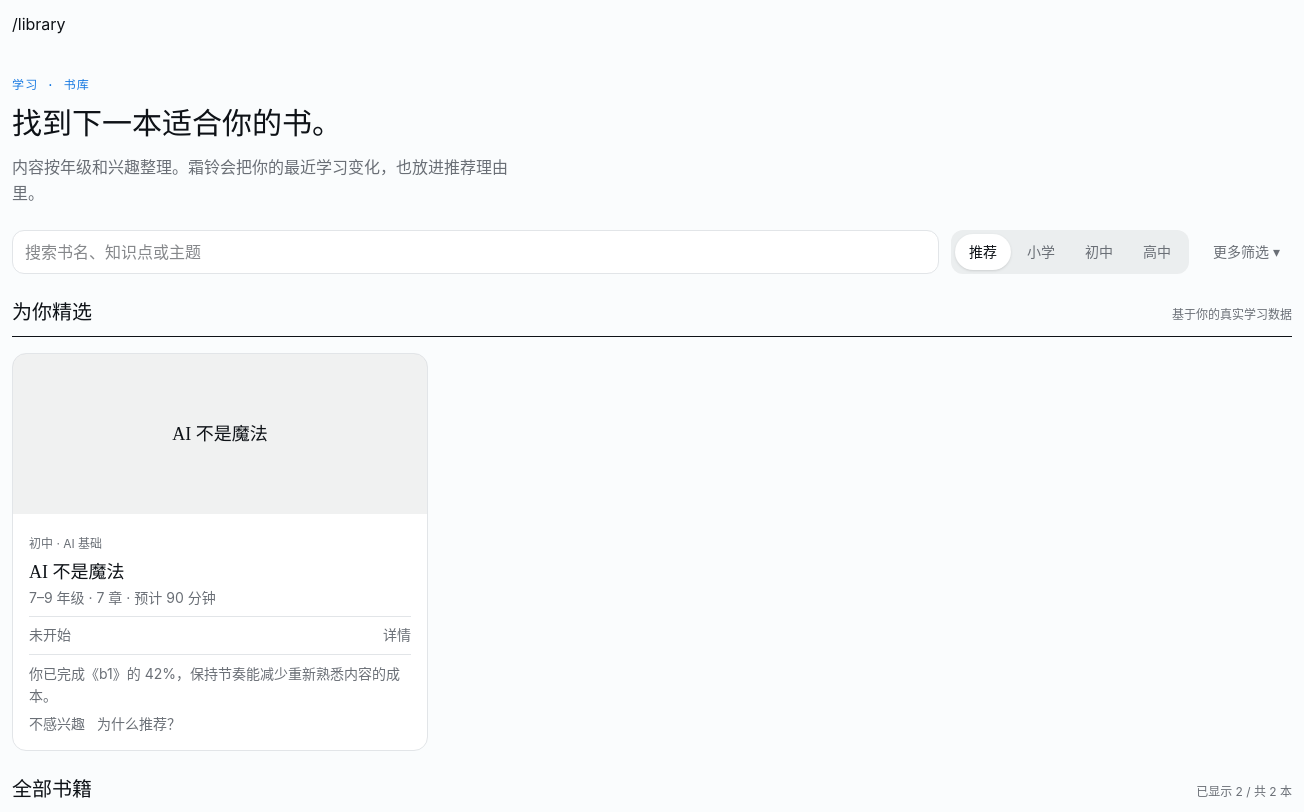
it: LibraryPage book detail entry points › 精选区来自真实推荐 API：展示理由、可忽略，详情入口可用
The width and height of the screenshot is (1304, 812).
Check: the heading "为你精选" is shown, box left=12, top=298, right=92, bottom=326
Check: the text "你已完成《b1》的 42%，保持节奏能减少重新熟悉内容的成本。" is shown, box left=29, top=654, right=411, bottom=708
Step 1. Click the button with test id "dismiss-rec-1" → point(57, 724), box left=29, top=714, right=85, bottom=734
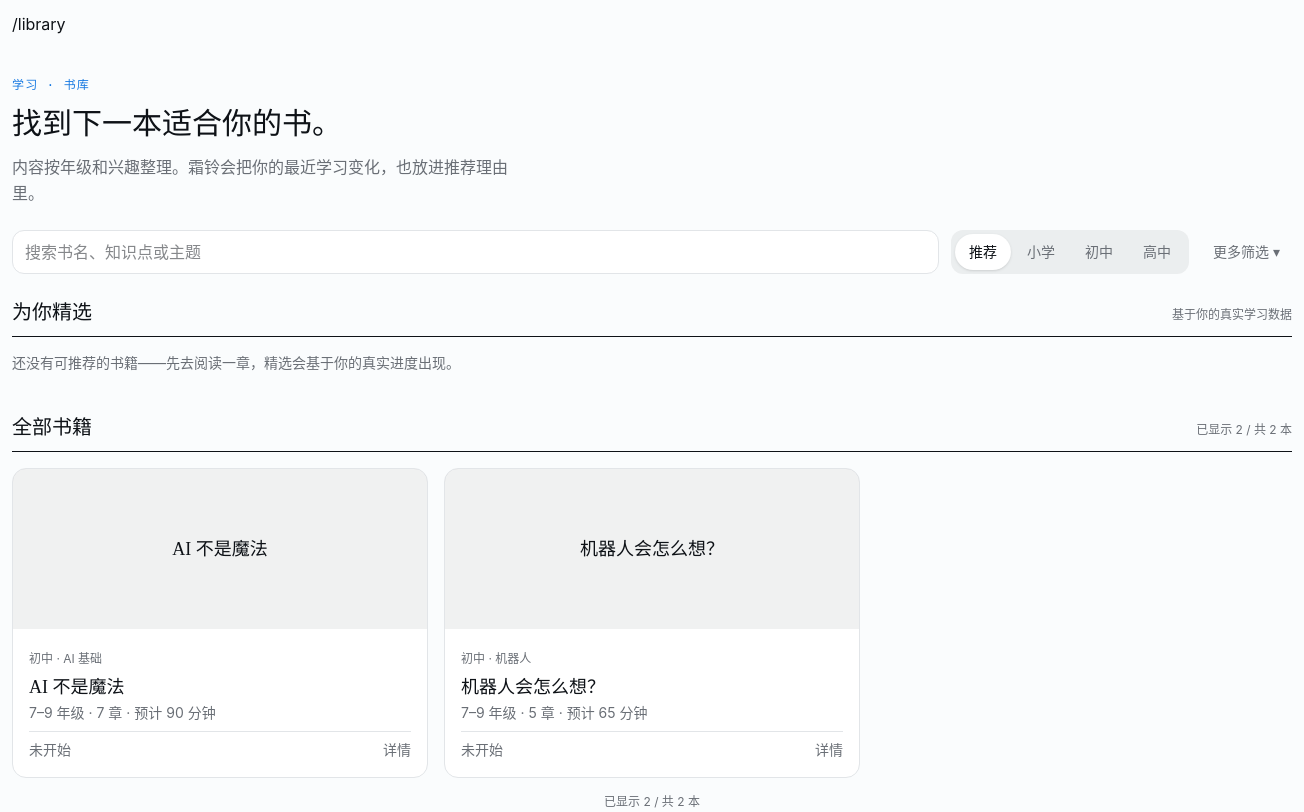
Check: the text "保持节奏能减少重新熟悉内容的成本" is gone
